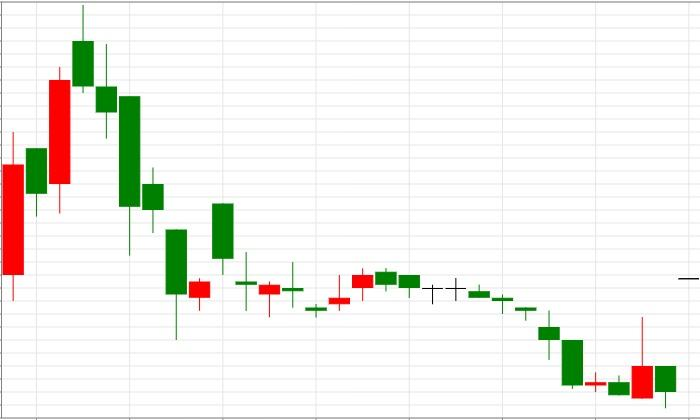bullish_engulfing_rise: (375, 267, 654, 399)
